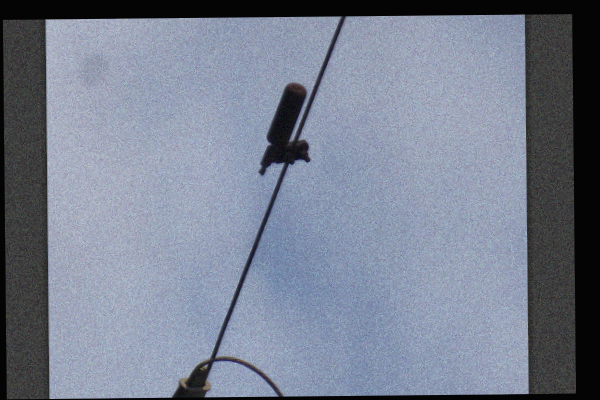damper_defect: (256, 82, 316, 179)
